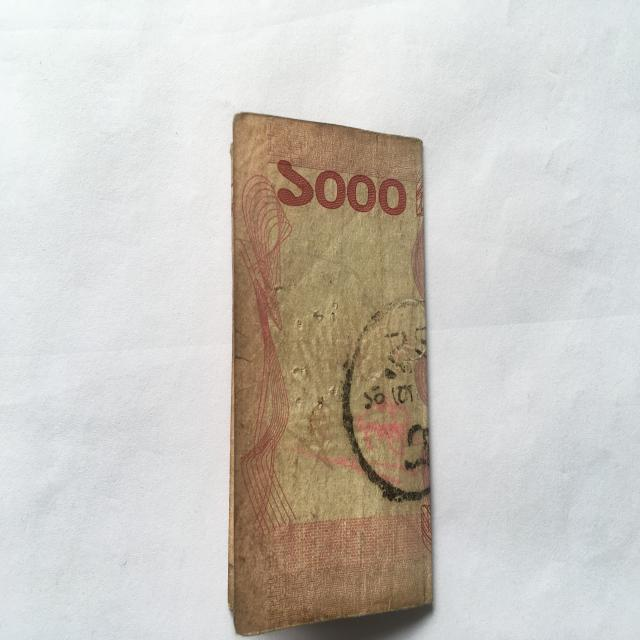Taka: (230, 109, 432, 625)
